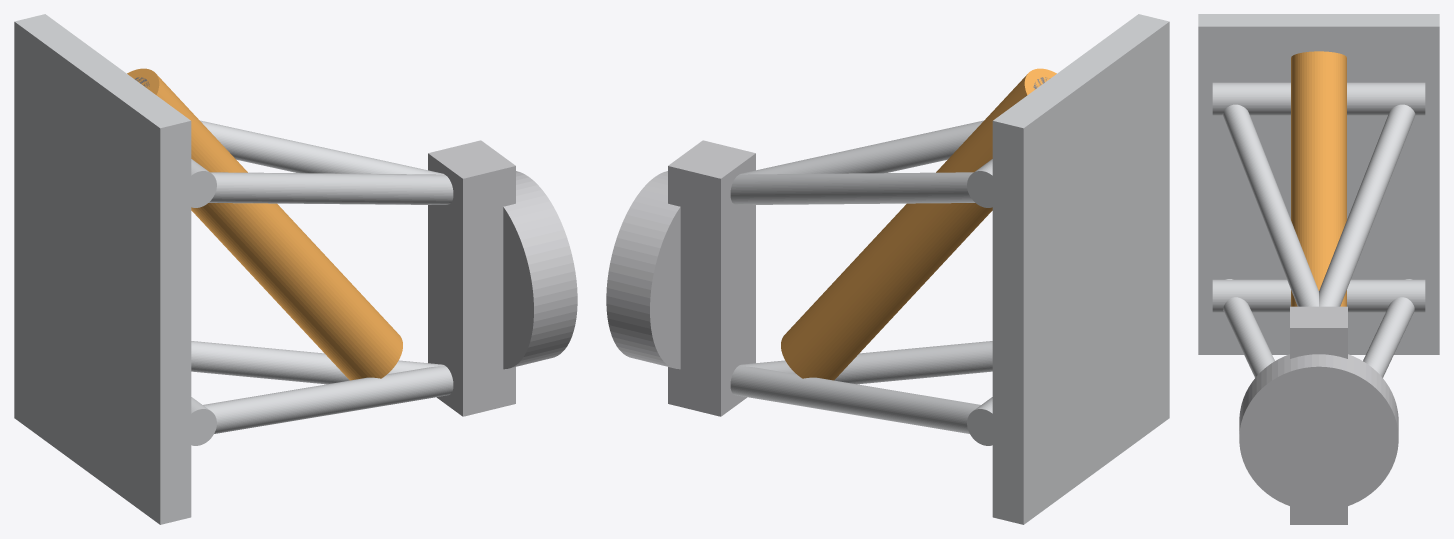
File: rover17_suspension_arm_l_susp_down.glb
The picture shows the model from 3 angles, left to right: view 1: azimuth 30°, elevation 25°; view 2: azimuth 150°, elevation 25°; view 3: azimuth 270°, elevation 25°; orthographic projection. The views are drawn at different scales.
Parts seen in each view (by area): view 1: mount_plate, arm_upright, spring, arm_lower, arm_upper; view 2: mount_plate, arm_upright, spring, arm_lower, arm_upper; view 3: mount_plate, arm_upright, arm_upper, spring, arm_lower.
Boxes of the visible parts, box(x1,y1,x2,y2) form: mount_plate: box(14, 14, 191, 524); arm_upright: box(428, 140, 577, 416); spring: box(127, 68, 402, 380); arm_lower: box(191, 341, 453, 445); arm_upper: box(191, 120, 453, 207); mount_plate: box(992, 14, 1169, 524); arm_upright: box(606, 140, 755, 416); spring: box(781, 68, 1056, 380); arm_lower: box(730, 341, 992, 445); arm_upper: box(730, 120, 992, 207); mount_plate: box(1198, 14, 1439, 354); arm_upright: box(1239, 306, 1398, 524); arm_upper: box(1212, 82, 1425, 306); spring: box(1291, 51, 1346, 306); arm_lower: box(1212, 279, 1425, 377).
Bounding box in the file's own units: 0.7 × 0.63 × 0.4.
